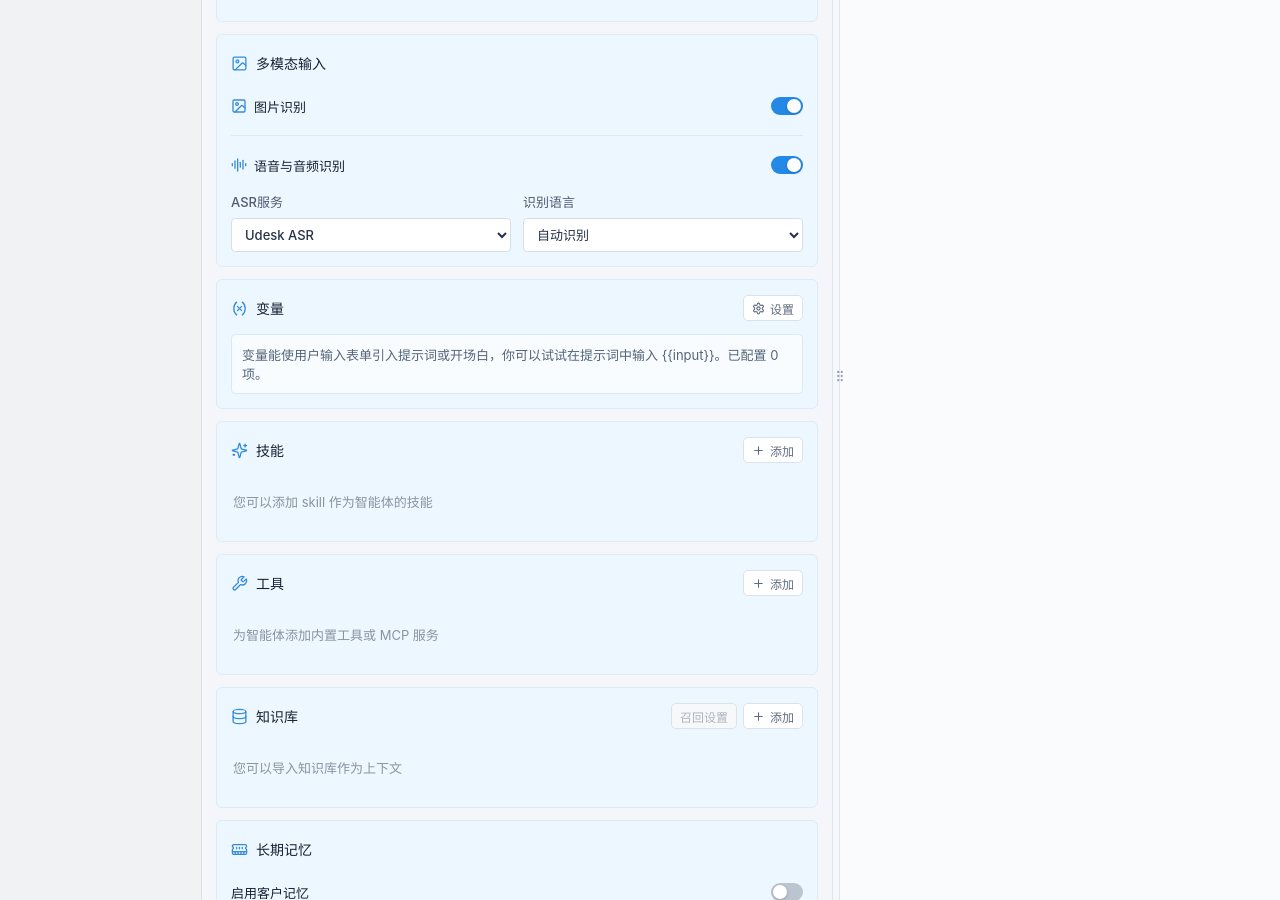
advanced agent configuration prototype › configures skills and keeps the selection in the workspace
(page scrolled)
Step 1. Click the 1st button "添加" → (773, 450), box [743,437,803,463]
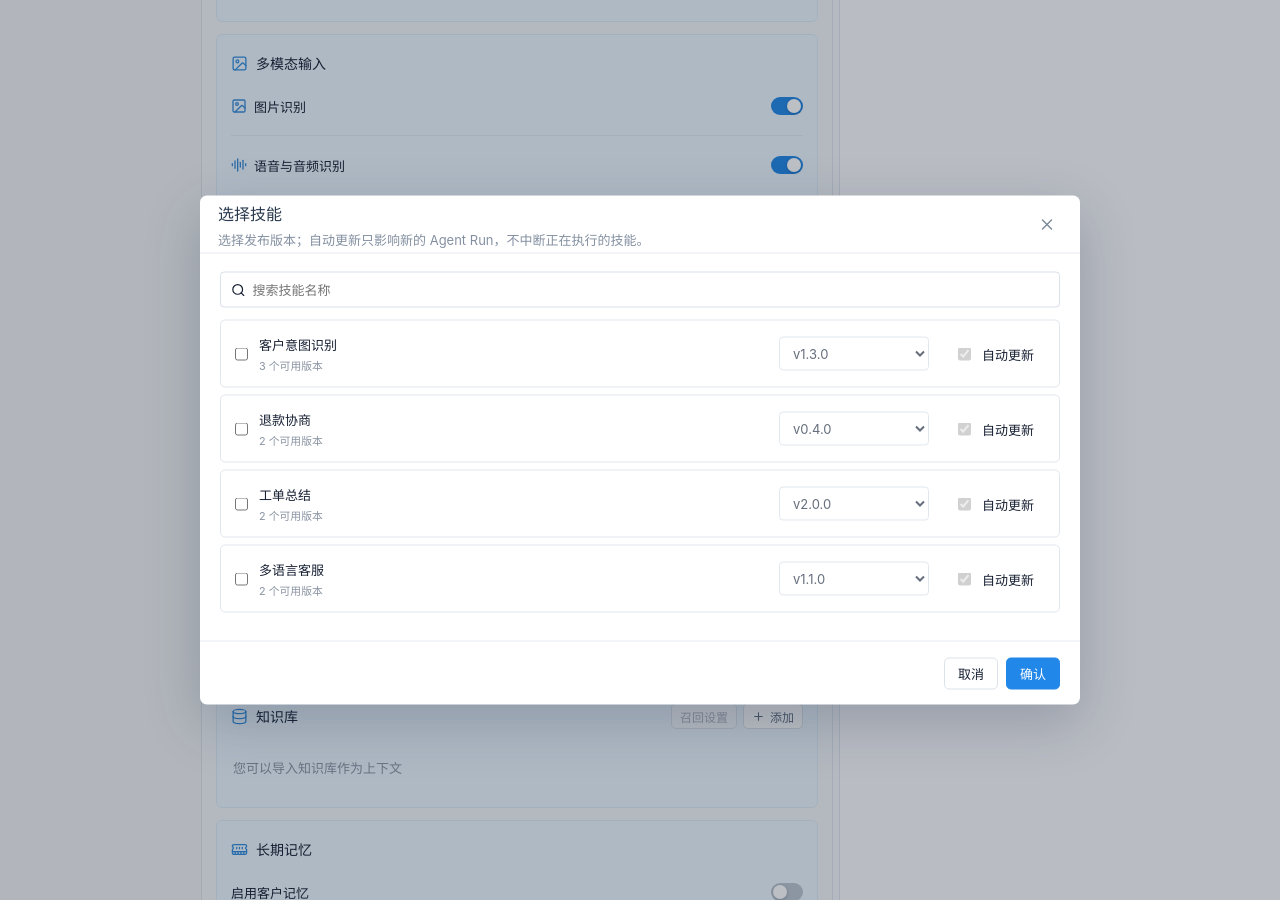
Step 2. Click the text "客户意图识别" → (298, 344), box [259,334,337,354]
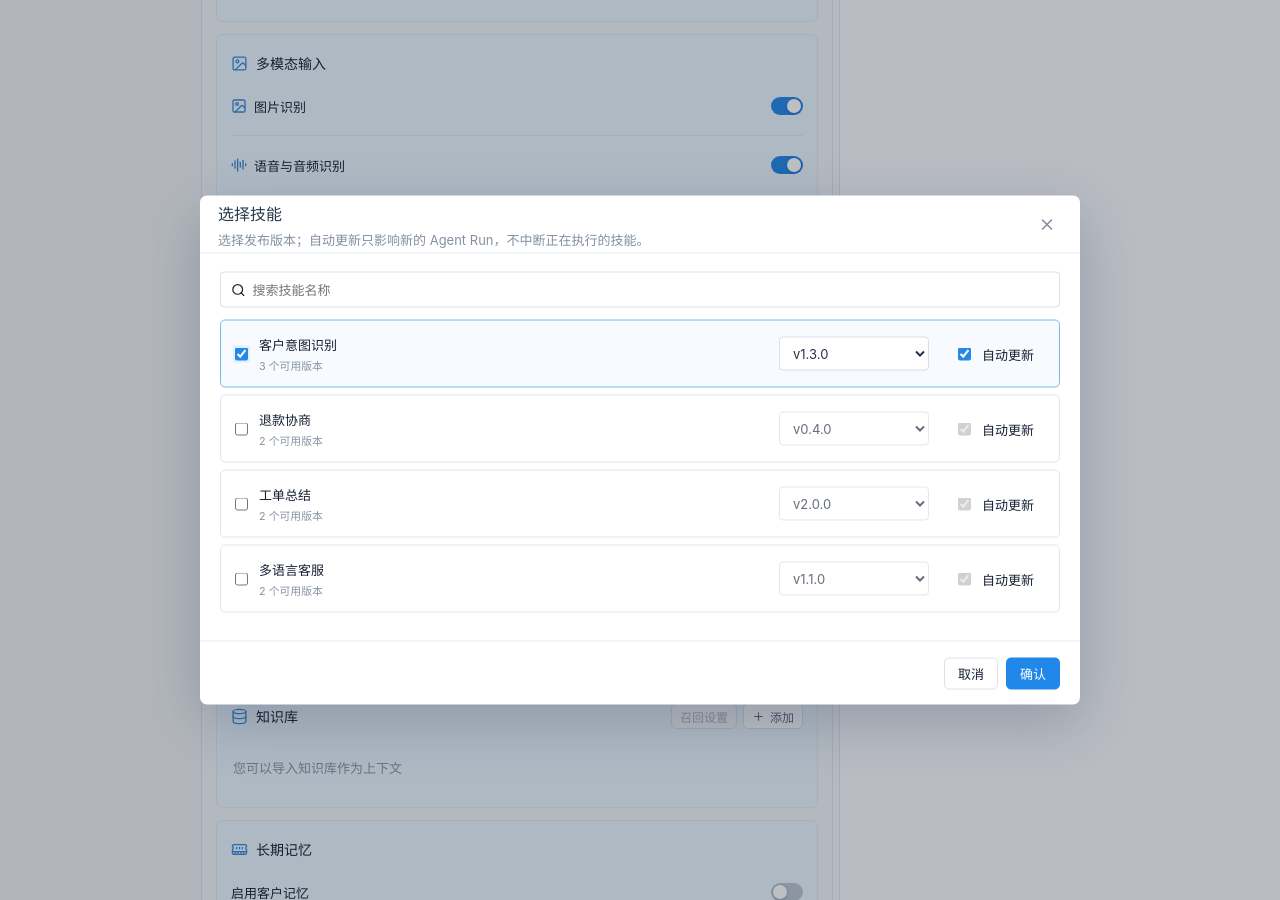
Step 3. Click the button "确认" → (1033, 673), box [1006,657,1060,689]
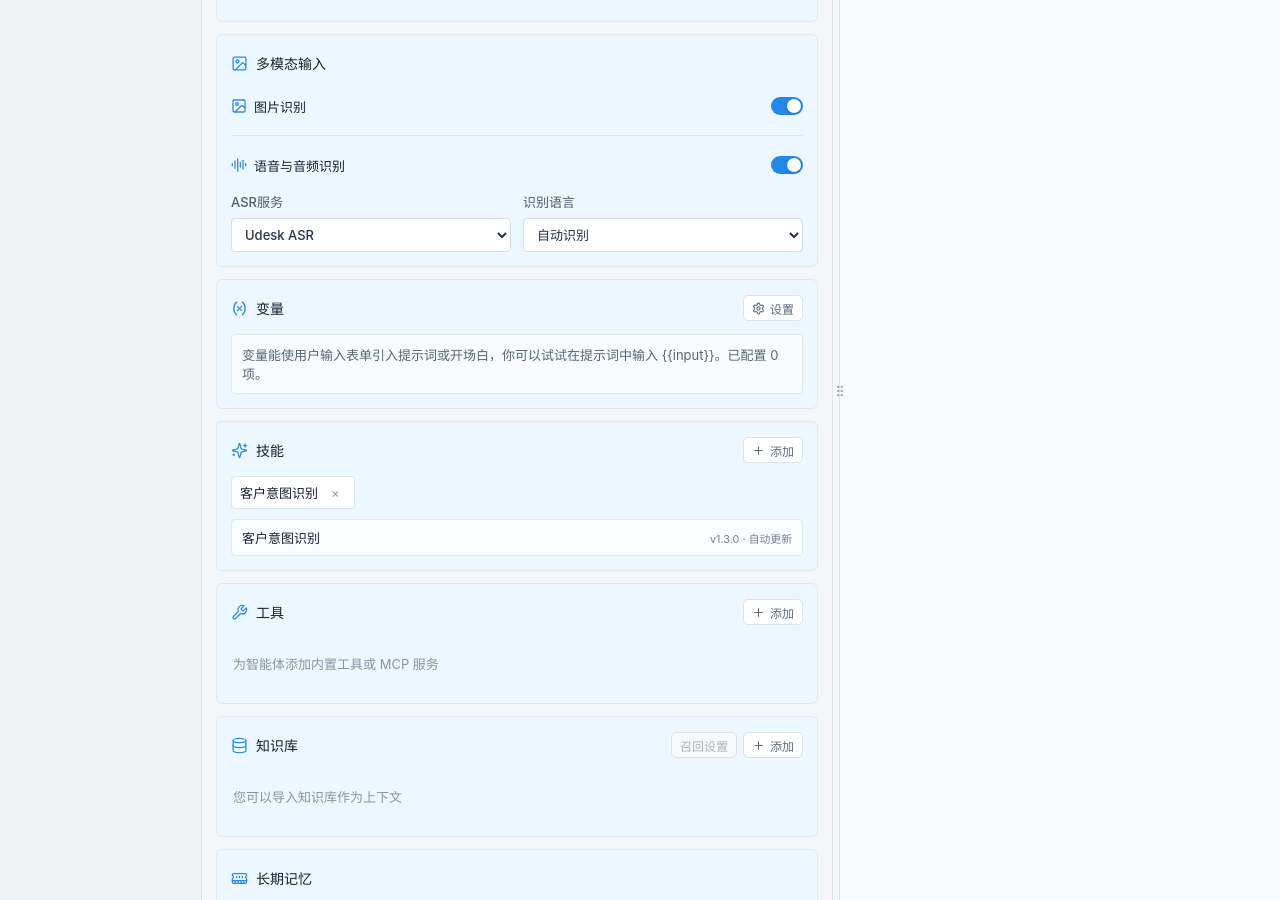
Expected: the text "客户意图识别" is shown 2 times, [231,476,355,509]; [242,528,320,547]
Expected: the text "v1.3.0 · 自动更新" is shown, [710,530,792,546]
